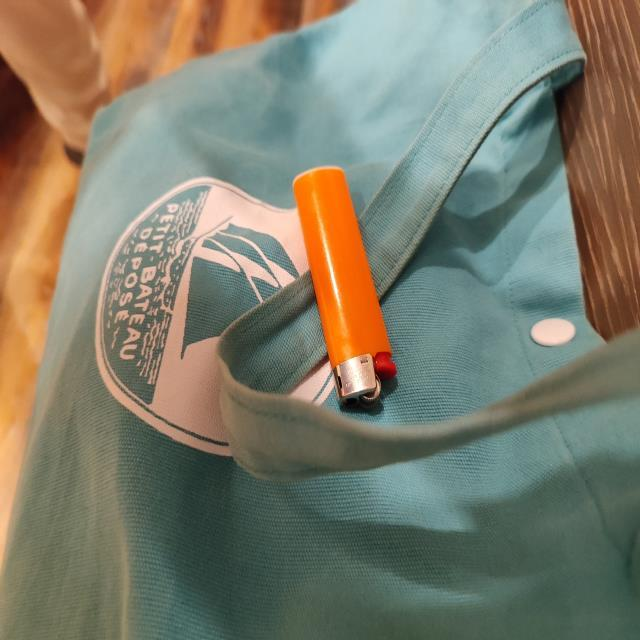lighter: (293, 167, 396, 402)
